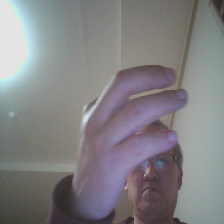hand: (74, 65, 192, 214)
